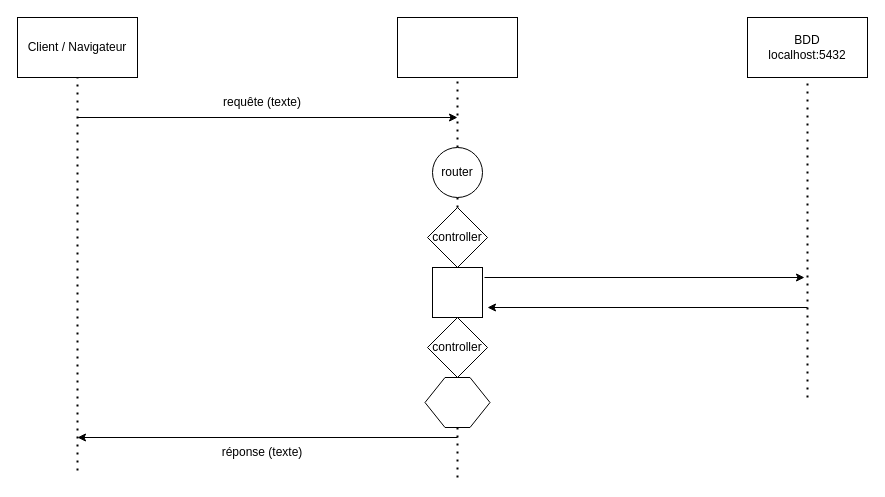
The diagram is 885 pixels wide and 497 high, and some of its shapes have lost their labels. Here are the shapes that lost their labels. From the top down, the box of each, then its label:
(396, 16, 518, 78): Server Web / localhost:3000
(432, 266, 482, 318): datamapper
(424, 376, 490, 428): view
